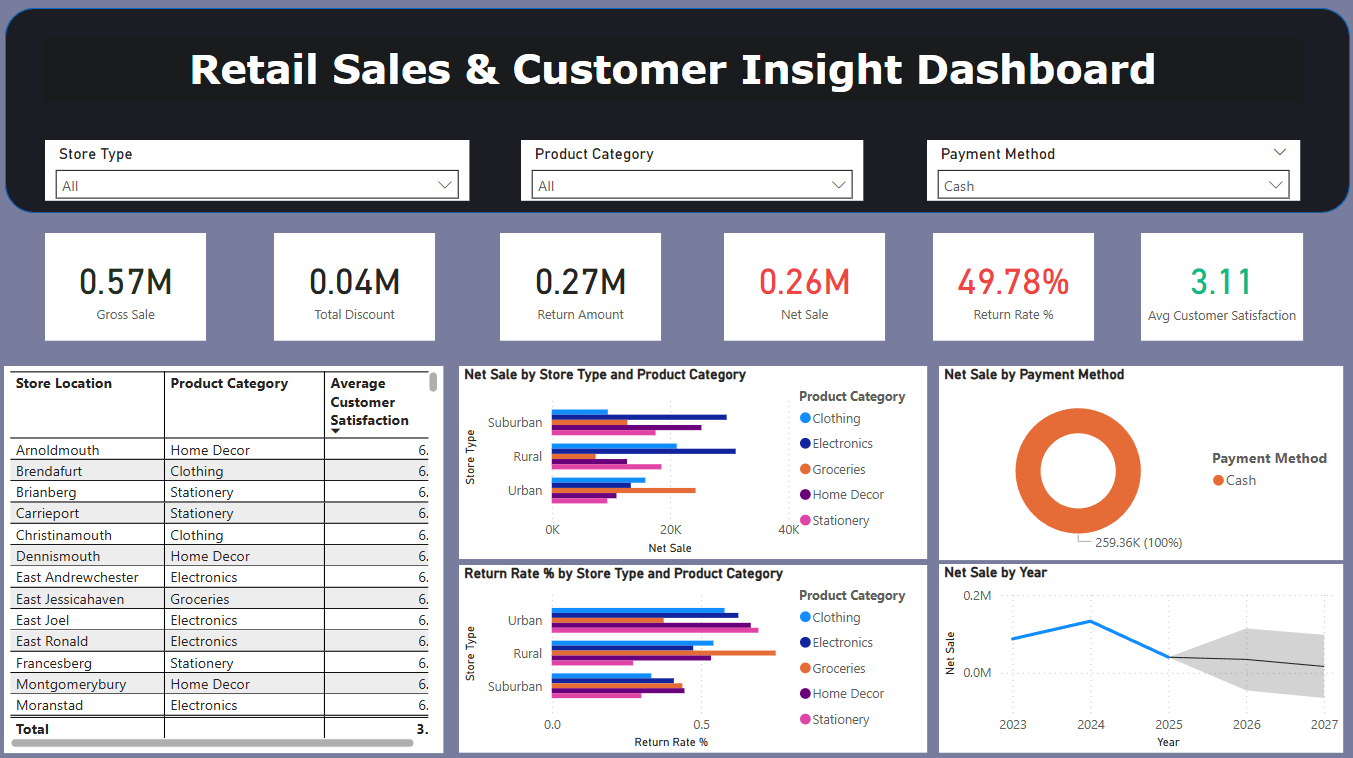

The dashboard page shown, as its layout file describes it:
{"tool":"powerbi","page":{"name":"Overview","canvas":[1280,720],"ordinal":0},"visuals":[{"type":"shape","box":[11.3,13.1,1261.2,192.2],"z":0},{"type":"clusteredBarChart","title":"Net Sale by Store Type and Product Category","fields":{"Category":["_Work_Sheet_retail_sales_customer_satis.Store_Type"],"Series":["_Work_Sheet_retail_sales_customer_satis.Product_Category"],"Y":["_Work_Sheet_retail_sales_customer_satis.Net Sale"]},"box":[437,348.8,438.9,181],"z":1000},{"type":"card","fields":{"Values":["_Work_Sheet_retail_sales_customer_satis.Estimated Return Amount"]},"box":[475.4,224.2,151,100.8],"z":2000},{"type":"card","fields":{"Values":["_Work_Sheet_retail_sales_customer_satis.Gross Sale"]},"box":[49.1,224.2,151,100.8],"z":3000},{"type":"card","fields":{"Values":["_Work_Sheet_retail_sales_customer_satis.Estimated Total Discount"]},"box":[263.3,224.2,151,100.8],"z":4000},{"type":"card","fields":{"Values":["_Work_Sheet_retail_sales_customer_satis.Net Sale"]},"box":[685.5,224.2,151,100.8],"z":5000},{"type":"textbox","box":[47.3,41,1181.3,59.9],"z":6000},{"type":"card","fields":{"Values":["_Work_Sheet_retail_sales_customer_satis.Return Rate %"]},"box":[881.8,224.2,151,100.8],"z":7000},{"type":"clusteredBarChart","title":"Return Rate % by Store Type and Product Category","fields":{"Category":["_Work_Sheet_retail_sales_customer_satis.Store_Type"],"Y":["_Work_Sheet_retail_sales_customer_satis.Return Rate %"],"Series":["_Work_Sheet_retail_sales_customer_satis.Product_Category"]},"box":[436.8,535.5,438.9,176.4],"z":8000},{"type":"donutChart","fields":{"Category":["_Work_Sheet_retail_sales_customer_satis.Payment_Method"],"Y":["_Work_Sheet_retail_sales_customer_satis.Net Sale"]},"box":[887.3,348.6,379.1,181.7],"z":9000},{"type":"card","fields":{"Values":["Avg(_Work_Sheet_retail_sales_customer_satis.Customer_Satisfaction_Rating)"]},"box":[1076.5,224.1,151.9,101.3],"z":10000},{"type":"tableEx","fields":{"Values":["_Work_Sheet_retail_sales_customer_satis.Store_Location","_Work_Sheet_retail_sales_customer_satis.Product_Category","_Work_Sheet_retail_sales_customer_satis.Average Customer Satisfaction"]},"box":[10.5,348.6,411.6,363.3],"z":11000},{"type":"lineChart","fields":{"Category":["_Work_Sheet_retail_sales_customer_satis.Purchase_Date.Variation.Date Hierarchy.Year","_Work_Sheet_retail_sales_customer_satis.Purchase_Date.Variation.Date Hierarchy.Quarter","_Work_Sheet_retail_sales_customer_satis.Purchase_Date.Variation.Date Hierarchy.Month","_Work_Sheet_retail_sales_customer_satis.Purchase_Date.Variation.Date Hierarchy.Day"],"Y":["_Work_Sheet_retail_sales_customer_satis.Net Sale"]},"box":[887.3,534.5,379.1,177.5],"z":12000},{"type":"slicer","fields":{"Values":["_Work_Sheet_retail_sales_customer_satis.Store_Type"]},"box":[48.8,136.9,397.6,57.2],"z":13000},{"type":"slicer","fields":{"Values":["_Work_Sheet_retail_sales_customer_satis.Payment_Method"]},"box":[875.8,136.9,349.8,57.2],"z":14000},{"type":"slicer","fields":{"Values":["_Work_Sheet_retail_sales_customer_satis.Product_Category"]},"box":[495.1,136.9,320.7,57.2],"z":15000}]}

Visuals, with their boxes in screenshot pixels (x1, y1, x2, y2), scaled from the page's 1280x720 canvas onto the 1353x758 screenshot:
shape: select_region(12, 14, 1345, 216)
"Net Sale by Store Type and Product Category" clusteredBarChart: select_region(462, 367, 926, 558)
card - _Work_Sheet_retail_sales_customer_satis.Estimated Return Amount: select_region(503, 236, 662, 342)
card - _Work_Sheet_retail_sales_customer_satis.Gross Sale: select_region(52, 236, 212, 342)
card - _Work_Sheet_retail_sales_customer_satis.Estimated Total Discount: select_region(278, 236, 438, 342)
card - _Work_Sheet_retail_sales_customer_satis.Net Sale: select_region(725, 236, 884, 342)
textbox: select_region(50, 43, 1299, 106)
card - _Work_Sheet_retail_sales_customer_satis.Return Rate %: select_region(932, 236, 1092, 342)
"Return Rate % by Store Type and Product Category" clusteredBarChart: select_region(462, 564, 926, 749)
donutChart - _Work_Sheet_retail_sales_customer_satis.Payment_Method x _Work_Sheet_retail_sales_customer_satis.Net Sale: select_region(938, 367, 1339, 558)
card - Avg(_Work_Sheet_retail_sales_customer_satis.Customer_Satisfaction_Rating): select_region(1138, 236, 1298, 343)
tableEx - _Work_Sheet_retail_sales_customer_satis.Store_Location x _Work_Sheet_retail_sales_customer_satis.Product_Category: select_region(11, 367, 446, 749)
lineChart - _Work_Sheet_retail_sales_customer_satis.Purchase_Date.Variation.Date Hierarchy.Year x _Work_Sheet_retail_sales_customer_satis.Purchase_Date.Variation.Date Hierarchy.Quarter: select_region(938, 563, 1339, 750)
slicer - _Work_Sheet_retail_sales_customer_satis.Store_Type: select_region(52, 144, 472, 204)
slicer - _Work_Sheet_retail_sales_customer_satis.Payment_Method: select_region(926, 144, 1295, 204)
slicer - _Work_Sheet_retail_sales_customer_satis.Product_Category: select_region(523, 144, 862, 204)
